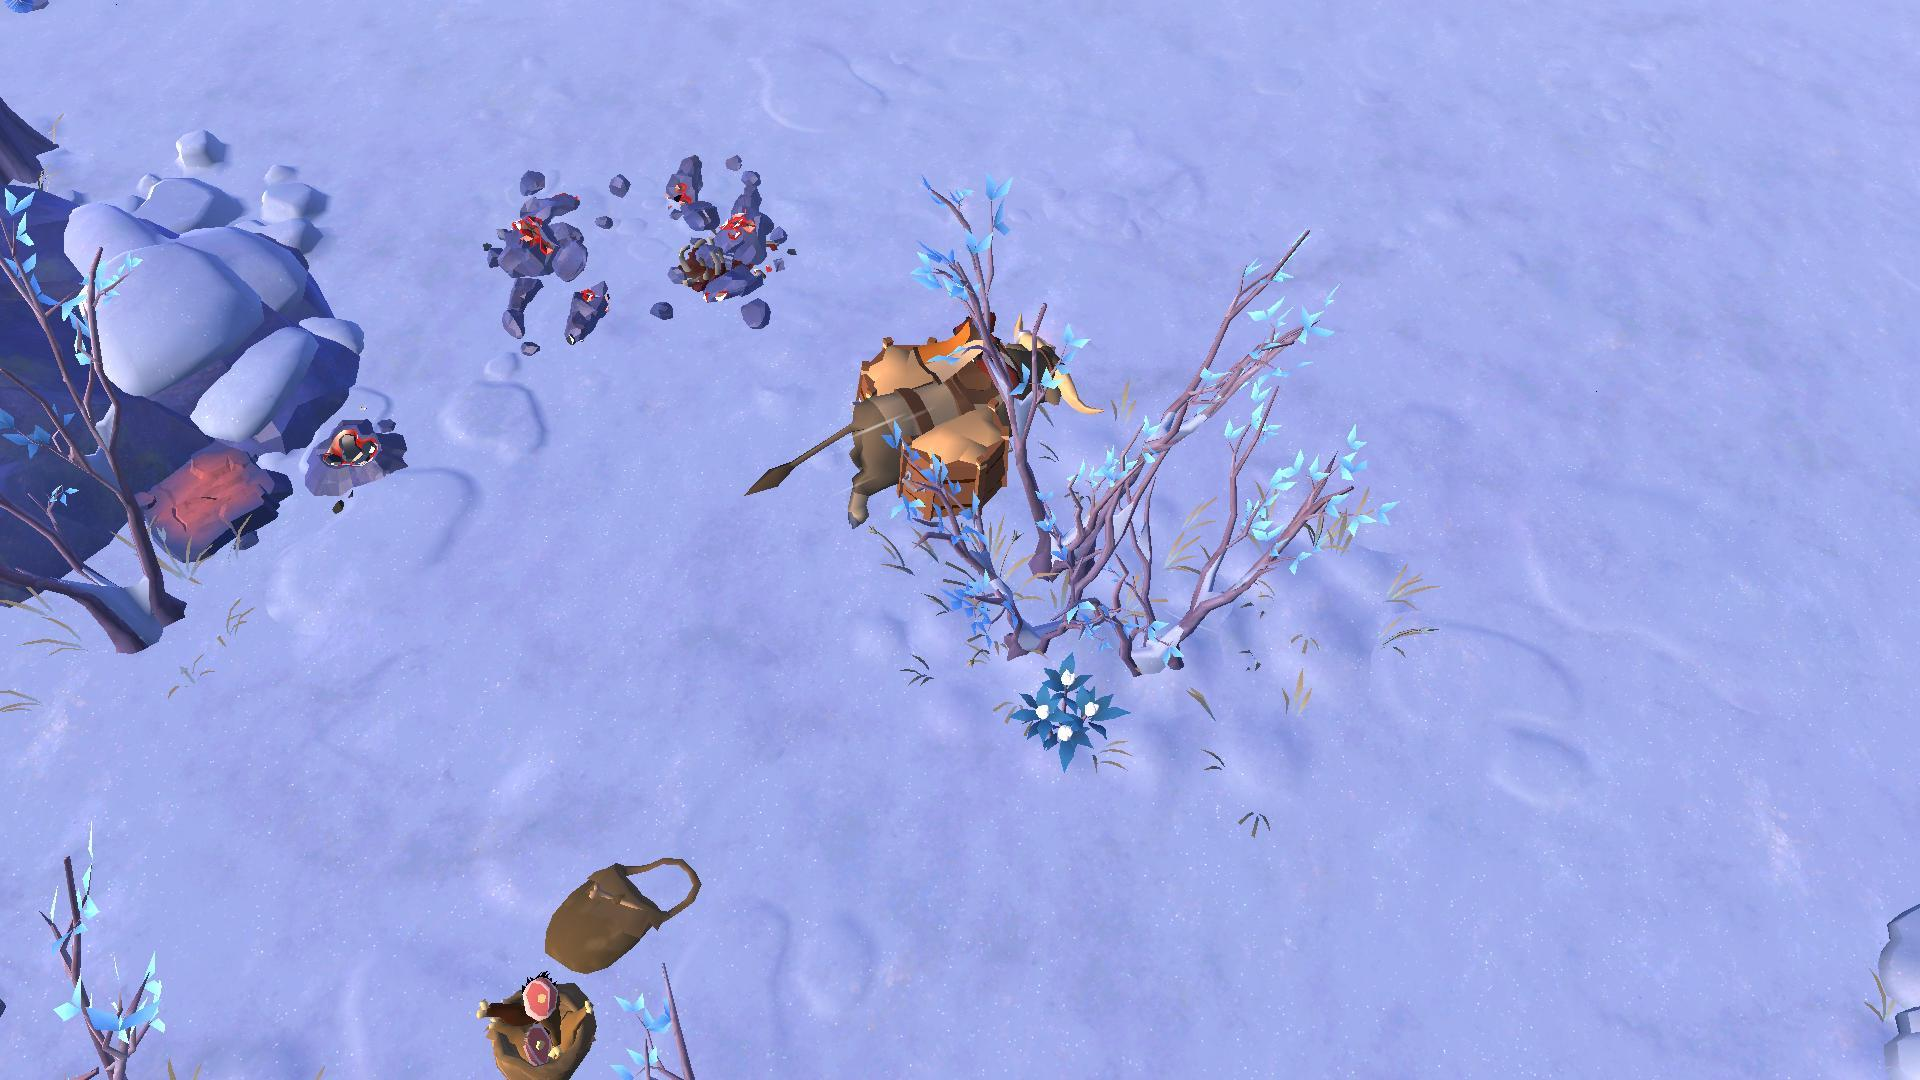fiber_t4: (1011, 654, 1122, 760)
